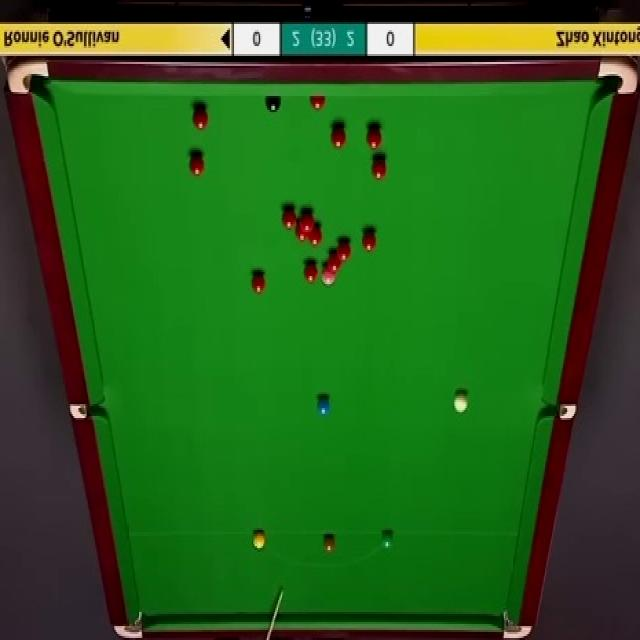black-ball: (266, 96, 282, 112)
blue-ball: (316, 398, 331, 415)
brown-ball: (324, 534, 335, 552)
green-ball: (380, 530, 395, 552)
pink-ball: (321, 266, 336, 286)
red-ball: (370, 155, 387, 180), (331, 124, 347, 150), (192, 106, 209, 129), (367, 126, 382, 150), (301, 262, 319, 282), (281, 207, 296, 231), (188, 156, 205, 177), (335, 241, 351, 263), (251, 274, 266, 297), (362, 230, 377, 253), (310, 227, 326, 248), (296, 222, 309, 242), (301, 212, 314, 232), (309, 97, 327, 111), (328, 255, 342, 273)
white-ball: (453, 389, 470, 413)
yellow-ball: (253, 530, 265, 550)
